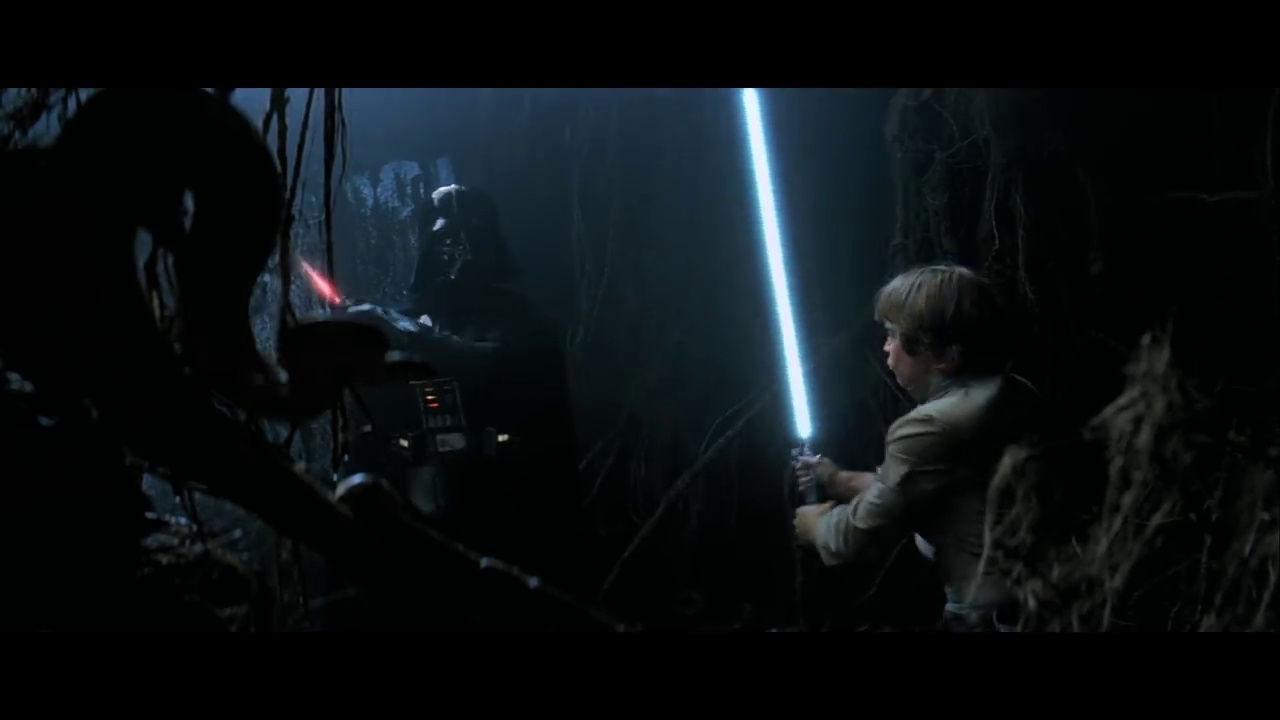lightsaber: (694, 89, 861, 522)
